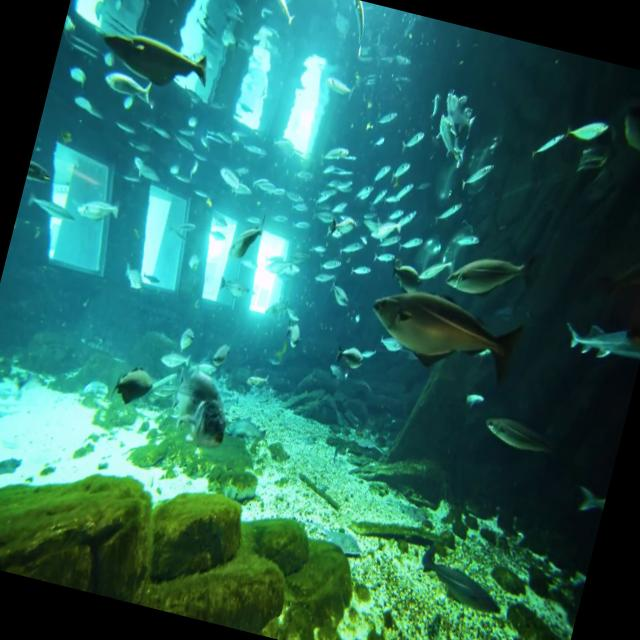fish: (362, 279, 522, 382), (93, 27, 210, 98), (110, 359, 156, 407)
